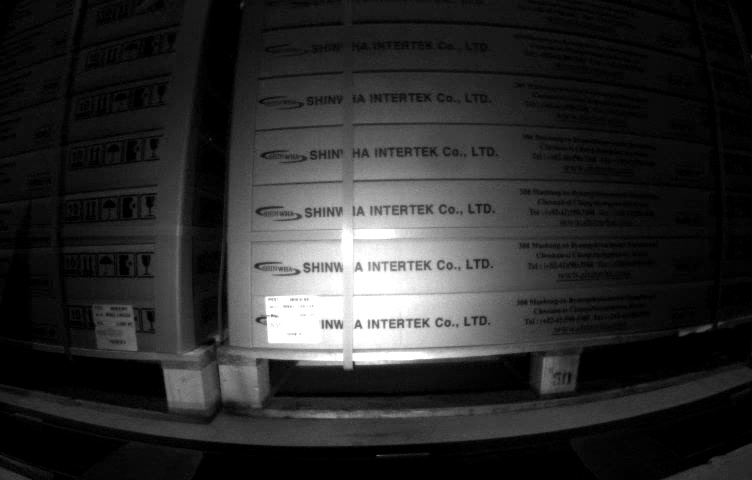True Barcode: (264, 294, 323, 344), (92, 302, 140, 353)
